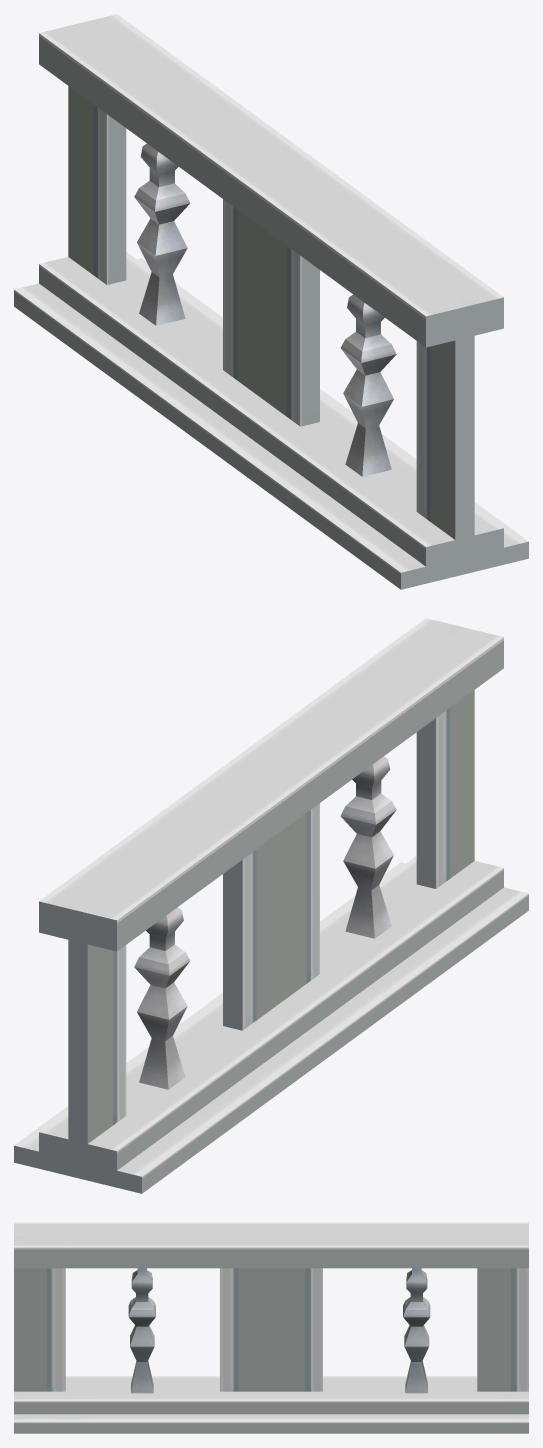
Rendered from my_teaparty_01_fence_01.glb.
3 views of the same model, one above another, from view 1: azimuth 30°, elevation 25°; view 2: azimuth 150°, elevation 25°; view 3: azimuth 270°, elevation 25° (orthographic). The views are drawn at different scales.
Parts seen in each view (by area): view 1: my_teaparty_01_fence_01; view 2: my_teaparty_01_fence_01; view 3: my_teaparty_01_fence_01.
Boxes of the visible parts, x1=… form: my_teaparty_01_fence_01: x1=14, y1=14, x2=528, y2=589; my_teaparty_01_fence_01: x1=14, y1=618, x2=528, y2=1193; my_teaparty_01_fence_01: x1=14, y1=1222, x2=528, y2=1433.
Bounding box in the file's own units: 0.00218 × 0.00436 × 0.0114.
1 material, 1 textured.
